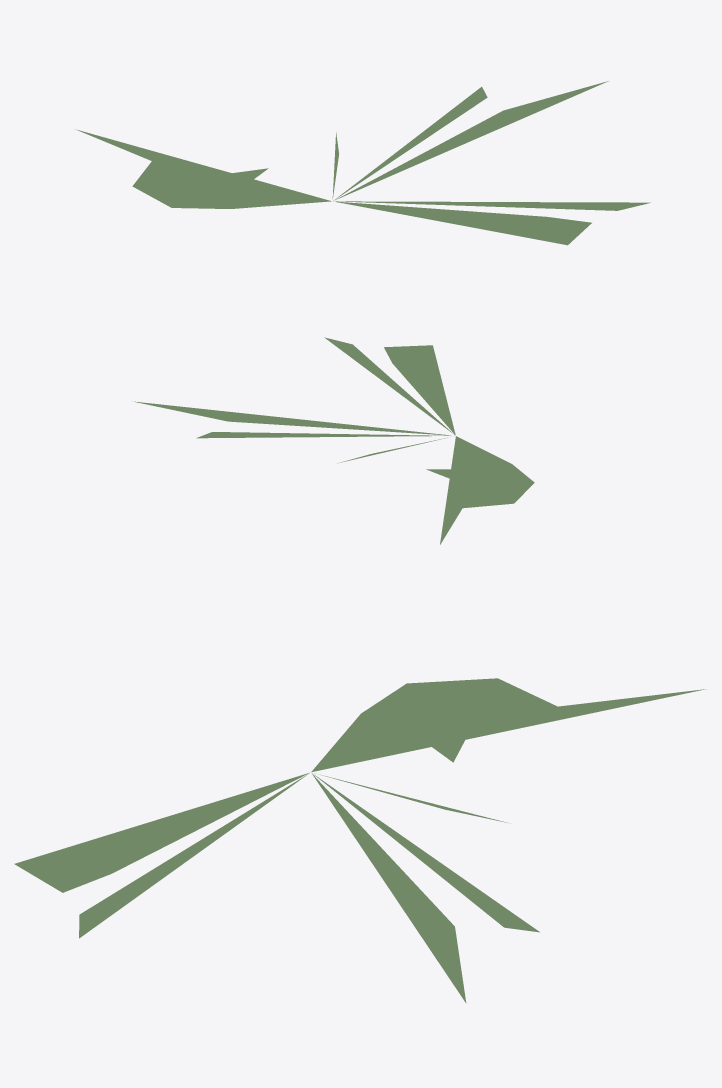
Rendered from c_1648_17833_parks.glb.
The picture shows the model from 3 angles, top to bottom: view 1: azimuth 30°, elevation 25°; view 2: azimuth 150°, elevation 25°; view 3: azimuth 270°, elevation 25°; orthographic projection. The views are drawn at different scales.
Visible parts, largest first — view 1: geometry_0; view 2: geometry_0; view 3: geometry_0.
Boxes of the visible parts, x1=… form: geometry_0: x1=75, y1=81, x2=650, y2=245; geometry_0: x1=132, y1=337, x2=534, y2=544; geometry_0: x1=14, y1=678, x2=706, y2=1003.
Size of the model in its own units: 325 by 0 by 194.
